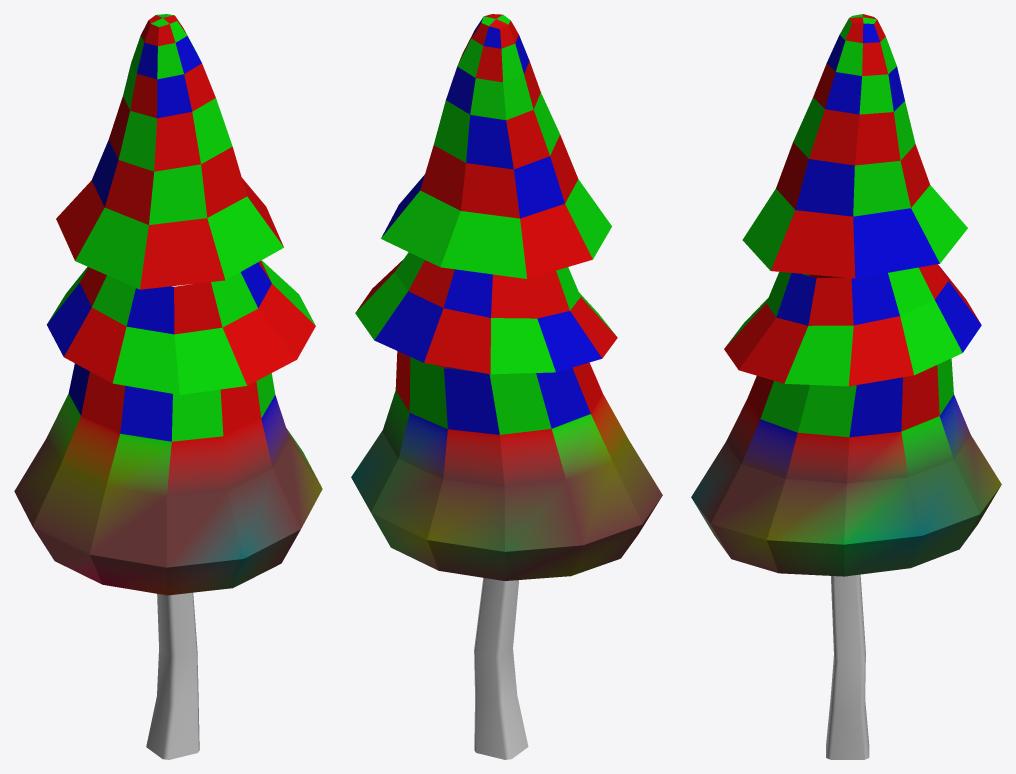
Rendered from Tree_D_03.fbx.
3 views of the same model, side by side, from view 1: azimuth 30°, elevation 25°; view 2: azimuth 150°, elevation 25°; view 3: azimuth 270°, elevation 25° (orthographic).
Visible parts, largest first — view 1: Tree_D_03_Leaves, Tree_D_03_Trunk; view 2: Tree_D_03_Leaves, Tree_D_03_Trunk; view 3: Tree_D_03_Leaves, Tree_D_03_Trunk.
Part boxes in pixels (x1,y1,x2,y2): Tree_D_03_Leaves: (14,14,322,595); Tree_D_03_Trunk: (146,592,199,759); Tree_D_03_Leaves: (351,14,662,580); Tree_D_03_Trunk: (474,578,528,759); Tree_D_03_Leaves: (691,14,1001,576); Tree_D_03_Trunk: (826,574,869,759).
Bounding box in the file's own units: 1.67 × 4.32 × 1.66.
